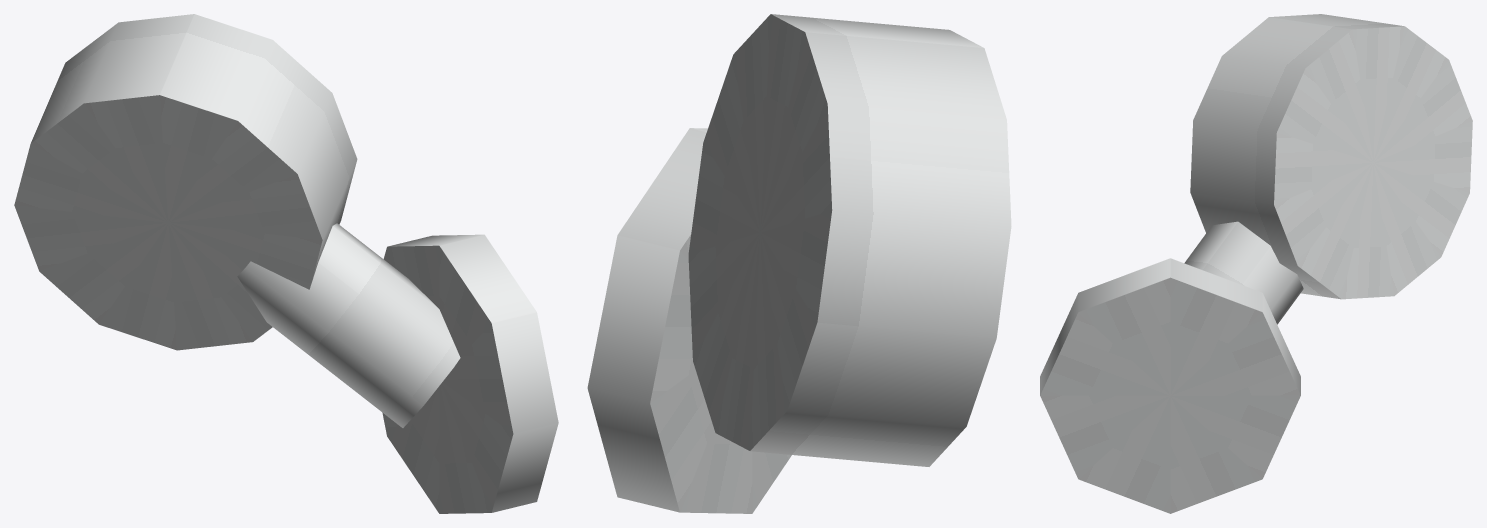
File: nycsignalarm_stub_74.obj
The picture shows the model from 3 angles, left to right: view 1: azimuth 30°, elevation 25°; view 2: azimuth 150°, elevation 25°; view 3: azimuth 270°, elevation 25°; orthographic projection. The views are drawn at different scales.
Parts seen in each view (by area): view 1: nycsignalarm_stub_74; view 2: nycsignalarm_stub_74; view 3: nycsignalarm_stub_74.
Boxes of the visible parts, box(x1,y1,x2,y2) form: nycsignalarm_stub_74: box(14, 14, 558, 513); nycsignalarm_stub_74: box(587, 14, 1011, 513); nycsignalarm_stub_74: box(1040, 14, 1472, 513).
Bounding box in the file's own units: 0.4728 × 0.5987 × 0.5808.
